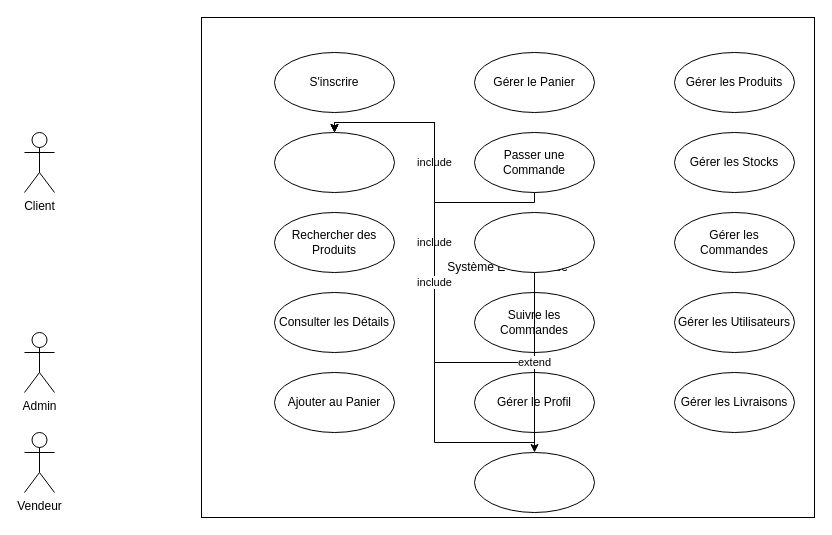
The diagram is 832 pixels wide and 535 high, and some of its shapes have lost their labels. The centre of each missing label's shape, as x and y in pixels:
"Paiement Échoué" belongs at (x=534, y=482).
"Payer" belongs at (x=534, y=242).
"Se Connecter" belongs at (x=334, y=162).
